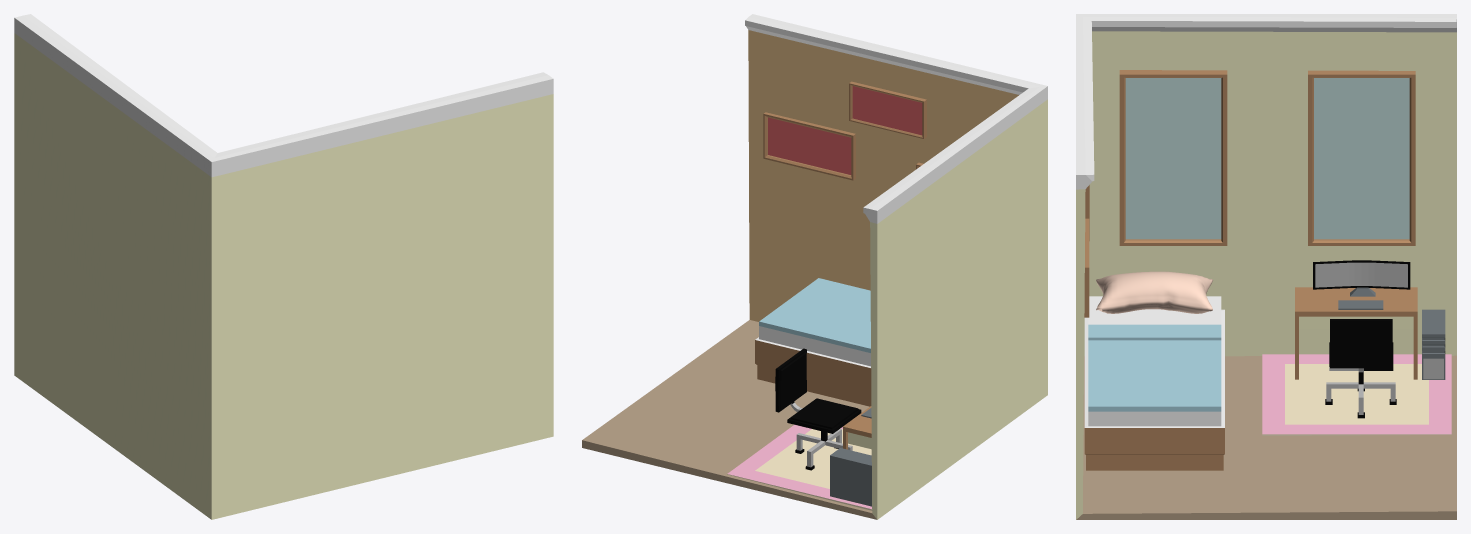
Rendered from Isometric Bed Room.fbx.
The picture shows the model from 3 angles, left to right: view 1: azimuth 30°, elevation 25°; view 2: azimuth 150°, elevation 25°; view 3: azimuth 270°, elevation 25°; orthographic projection. The views are drawn at different scales.
Visible parts, largest first — view 1: Cube; view 2: Cube; view 3: Cube.
Boxes of the visible parts, x1,y1,x2,y2 form: Cube: (14, 14, 553, 519); Cube: (582, 14, 1047, 519); Cube: (1076, 14, 1456, 519).
Size of the model in its own units: 402 by 402 by 402.
